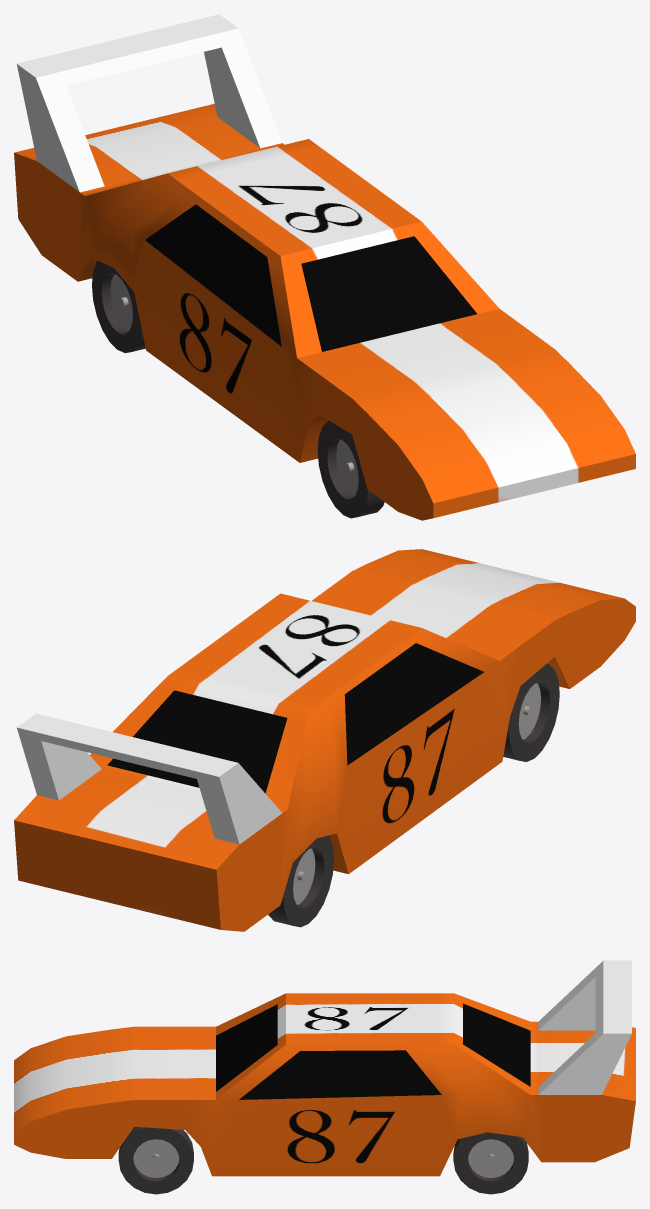
File: superbird_export.fbx
The picture shows the model from 3 angles, top to bottom: view 1: azimuth 30°, elevation 25°; view 2: azimuth 150°, elevation 25°; view 3: azimuth 270°, elevation 25°; orthographic projection. The views are drawn at different scales.
Visible parts, largest first — view 1: polySurface1, polySurface2, left_back_wheel6, left_back_wheel7; view 2: polySurface1, polySurface2, left_back_wheel6, left_back_wheel7; view 3: polySurface1, polySurface2, left_back_wheel5, left_back_wheel4.
Boxes of the visible parts, x1,y1,x2,y2 form: polySurface1: (14, 14, 635, 520); polySurface2: (145, 204, 476, 351); left_back_wheel6: (317, 420, 384, 518); left_back_wheel7: (92, 260, 145, 353); polySurface1: (14, 549, 635, 931); polySurface2: (107, 643, 483, 793); left_back_wheel6: (503, 664, 559, 761); left_back_wheel7: (268, 835, 333, 927); polySurface1: (14, 960, 635, 1176); polySurface2: (216, 1003, 530, 1099); left_back_wheel5: (118, 1126, 193, 1194); left_back_wheel4: (453, 1132, 528, 1194).
Bounding box in the file's own units: 4.96 × 5.1 × 17.79.
